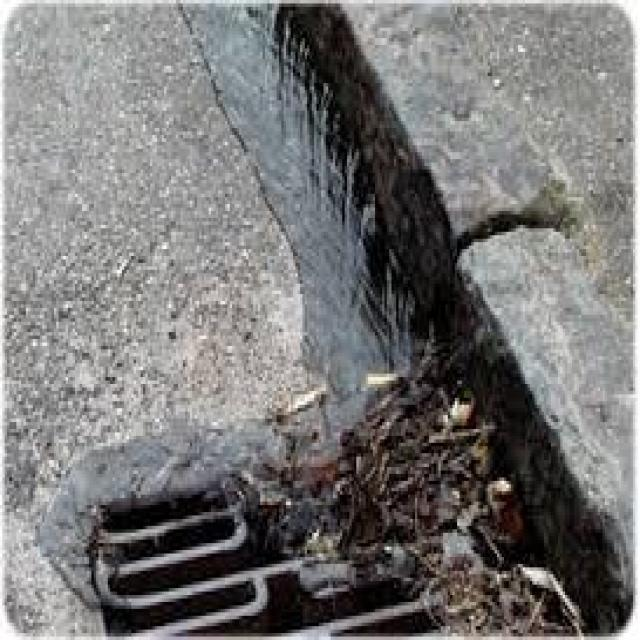curb: (245, 1, 534, 235), (433, 251, 640, 566)
